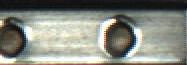joints: (97, 14, 141, 62), (0, 17, 27, 61)
